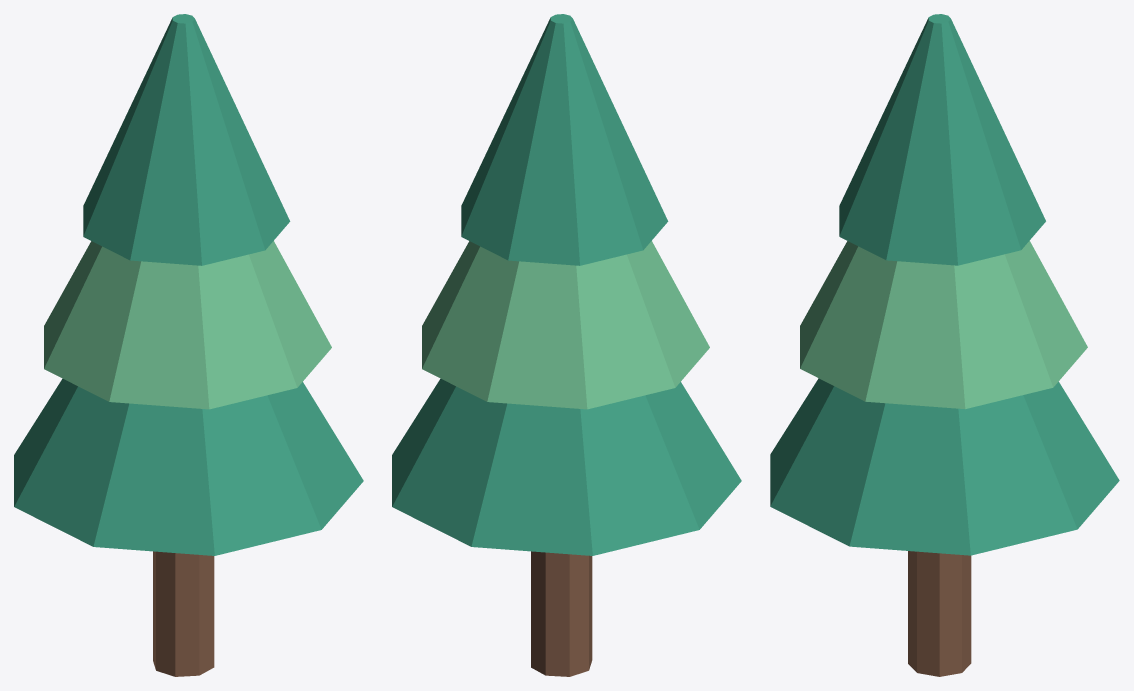
File: Tree.fbx
3 views of the same model, side by side, from view 1: azimuth 30°, elevation 25°; view 2: azimuth 150°, elevation 25°; view 3: azimuth 270°, elevation 25° (orthographic).
Parts seen in each view (by area): view 1: Tree; view 2: Tree; view 3: Tree.
Boxes of the visible parts, x1,y1,x2,y2 form: Tree: (14, 14, 363, 676); Tree: (392, 14, 741, 676); Tree: (770, 14, 1119, 676).
Bounding box in the file's own units: 246 × 494 × 242.
